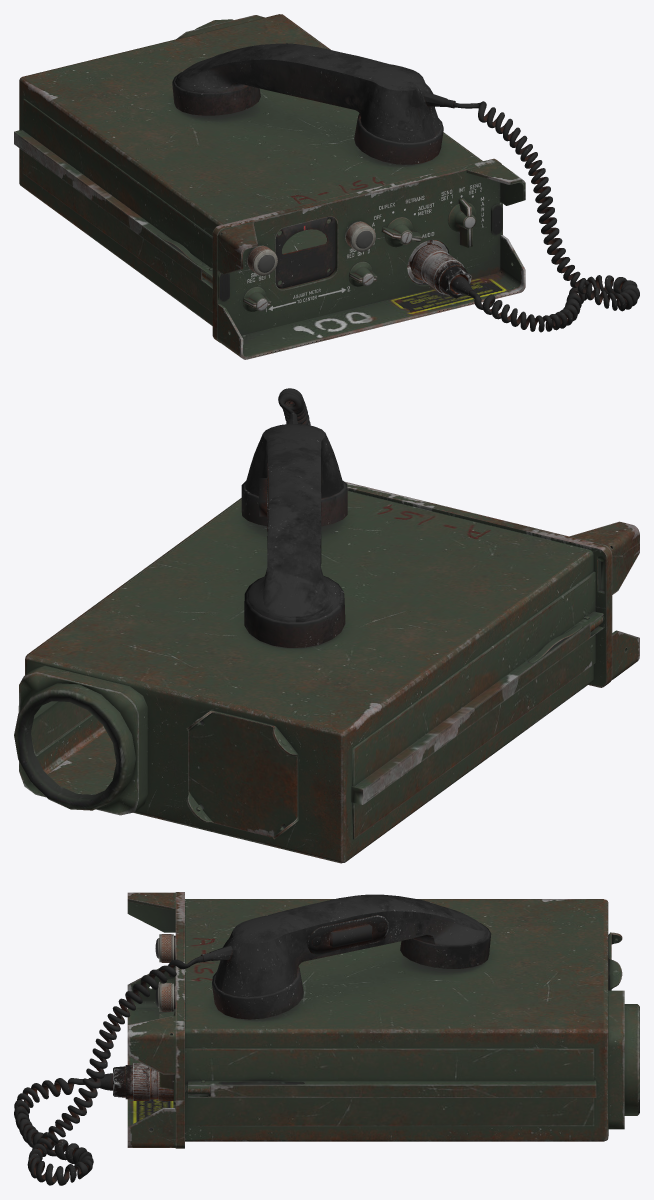
The model's file is optimizedContactModel.glb.
The picture shows the model from 3 angles, top to bottom: view 1: azimuth 30°, elevation 25°; view 2: azimuth 150°, elevation 25°; view 3: azimuth 270°, elevation 25°; orthographic projection. The views are drawn at different scales.
Visible parts, largest first — view 1: Shell_low, Phone_low_T_Phone_0, PhoneWire_low, Screen_Protector_low, Phone_Plug_low, MiddleRightTurnButton_low, MiddleTurnButton_low, RightRoundButton_low, LeftRoundButton_low, LeftBottomTurnButton_low, RightBottomTurnButton_low; view 2: Shell_low, Phone_low_T_Phone_0, PhoneWire_low; view 3: Shell_low, Phone_low_T_Phone_0, PhoneWire_low, Phone_Plug_low, RightRoundButton_low, LeftRoundButton_low.
Part boxes in pixels (x1,y1,x2,y2): Shell_low: (14, 14, 525, 359); Phone_low_T_Phone_0: (172, 43, 455, 164); PhoneWire_low: (453, 101, 639, 332); Screen_Protector_low: (275, 217, 335, 288); Phone_Plug_low: (412, 244, 473, 298); MiddleRightTurnButton_low: (448, 198, 476, 247); MiddleTurnButton_low: (381, 217, 421, 247); RightRoundButton_low: (345, 221, 375, 251); LeftRoundButton_low: (247, 245, 277, 275); LeftBottomTurnButton_low: (349, 261, 377, 286); RightBottomTurnButton_low: (243, 286, 270, 311); Shell_low: (14, 482, 639, 863); Phone_low_T_Phone_0: (241, 413, 347, 647); PhoneWire_low: (278, 388, 310, 425); Shell_low: (127, 892, 639, 1148); Phone_low_T_Phone_0: (200, 894, 491, 1019); PhoneWire_low: (14, 955, 203, 1185); Phone_Plug_low: (88, 1063, 173, 1100); RightRoundButton_low: (158, 983, 175, 1011); LeftRoundButton_low: (158, 934, 175, 962).
Bounding box in the file's own units: 0.2554 × 0.1263 × 0.37.
3 materials, 3 textured.
